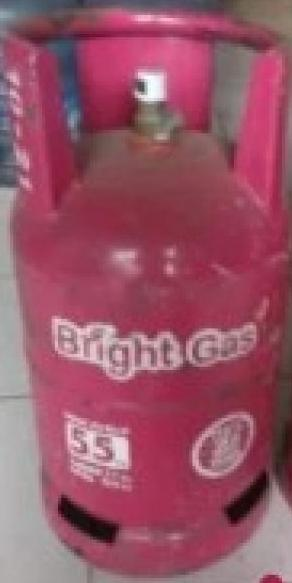cylinder: (1, 0, 292, 583)
